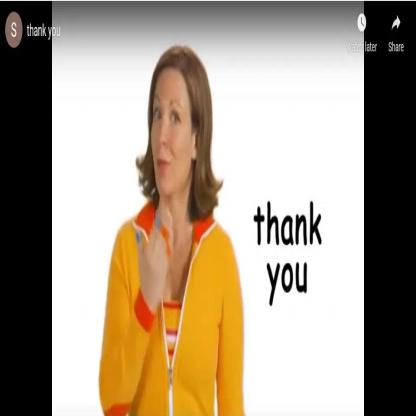ThankYou: (124, 41, 210, 314)
